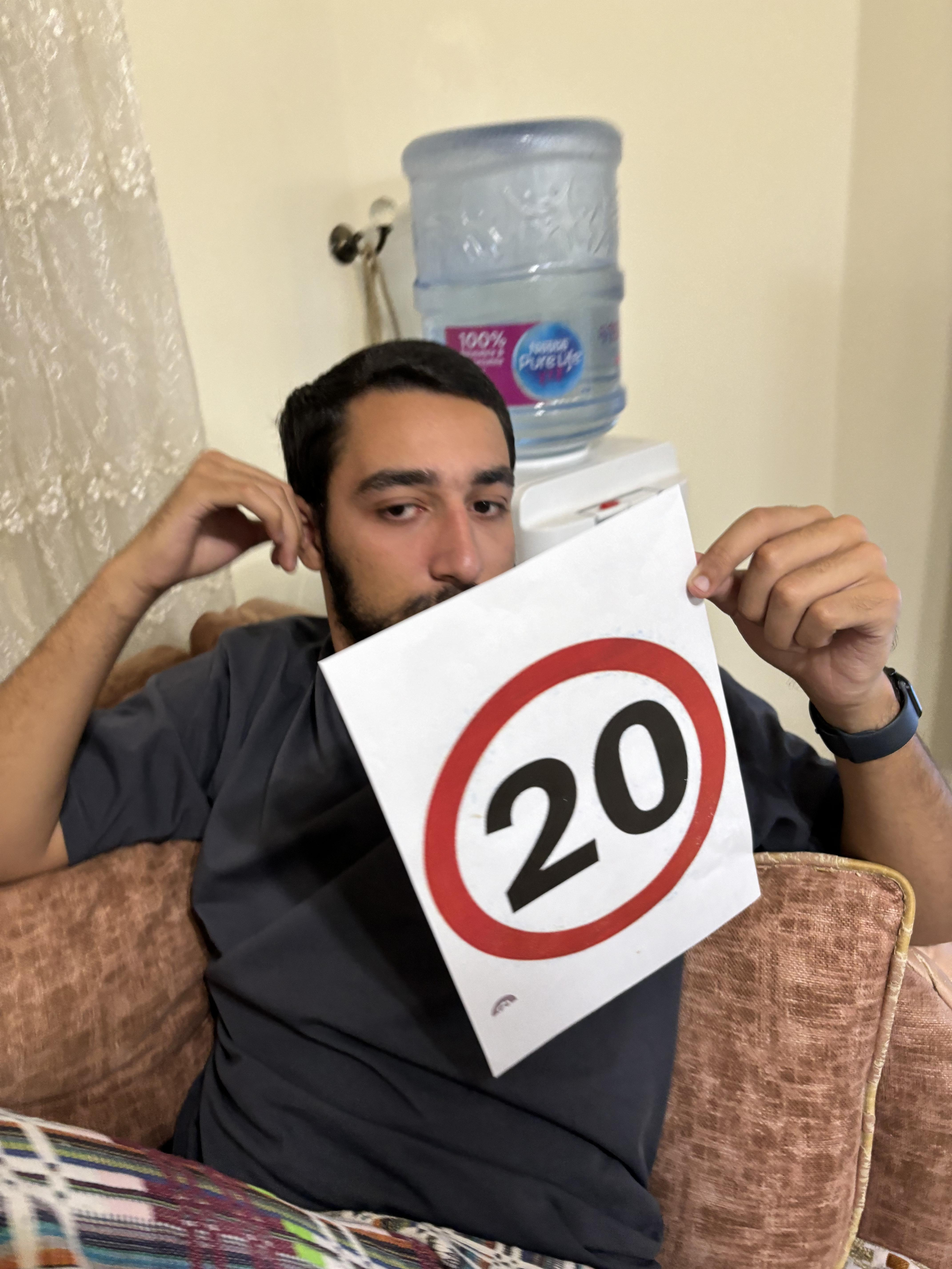20-Speed: (418, 649, 735, 945)
